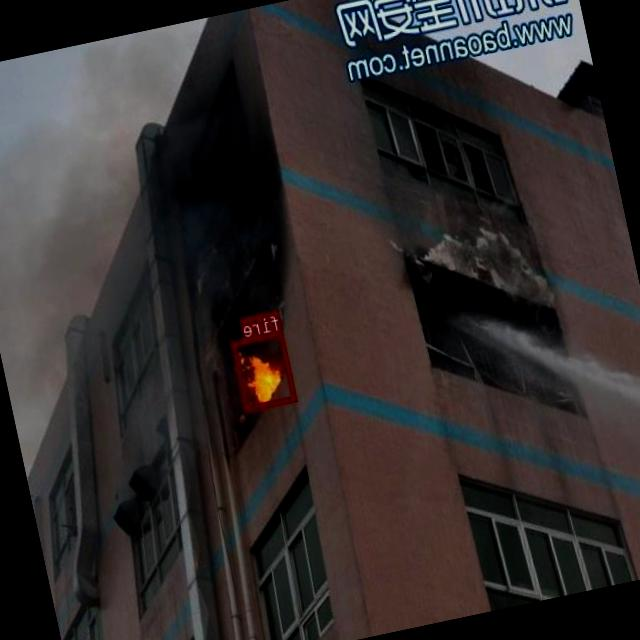fire: (231, 329, 298, 410)
